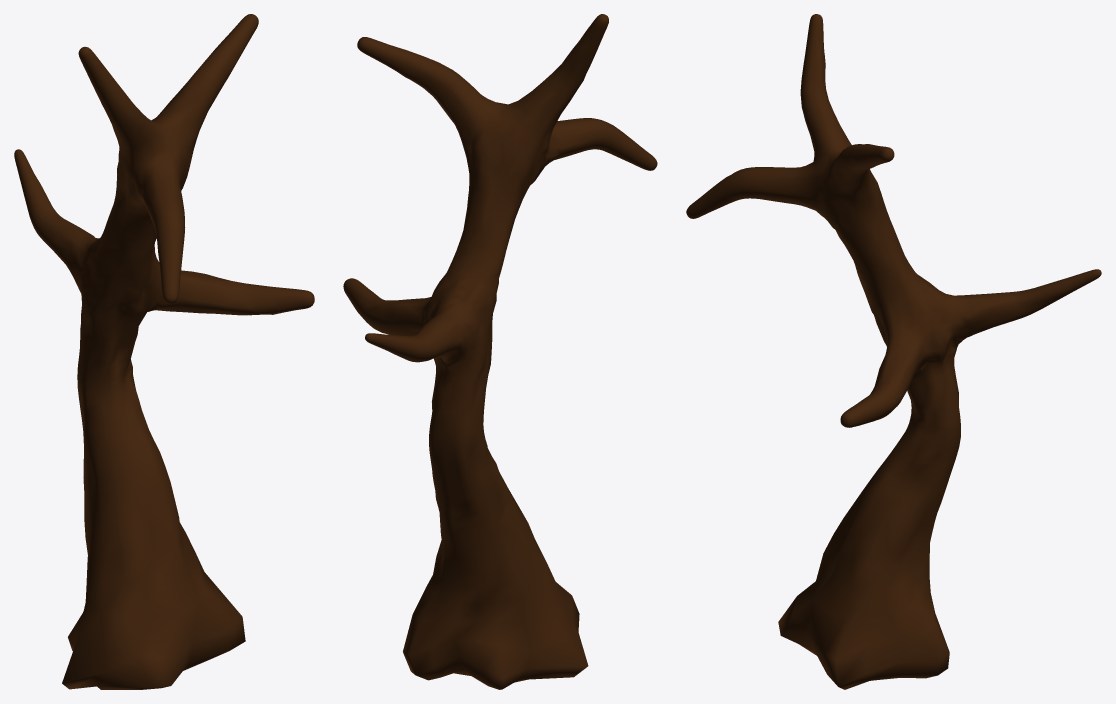
Rendered from G_LP_Tree_02a.fbx.
The picture shows the model from 3 angles, left to right: view 1: azimuth 30°, elevation 25°; view 2: azimuth 150°, elevation 25°; view 3: azimuth 270°, elevation 25°; orthographic projection. The views are drawn at different scales.
Parts seen in each view (by area): view 1: G_LP_Tree_02a; view 2: G_LP_Tree_02a; view 3: G_LP_Tree_02a.
Part boxes in pixels (bbox=[...]): G_LP_Tree_02a: bbox=[14, 14, 314, 689]; G_LP_Tree_02a: bbox=[343, 14, 657, 689]; G_LP_Tree_02a: bbox=[686, 14, 1101, 689].
Size of the model in its own units: 523 by 1321 by 810.
